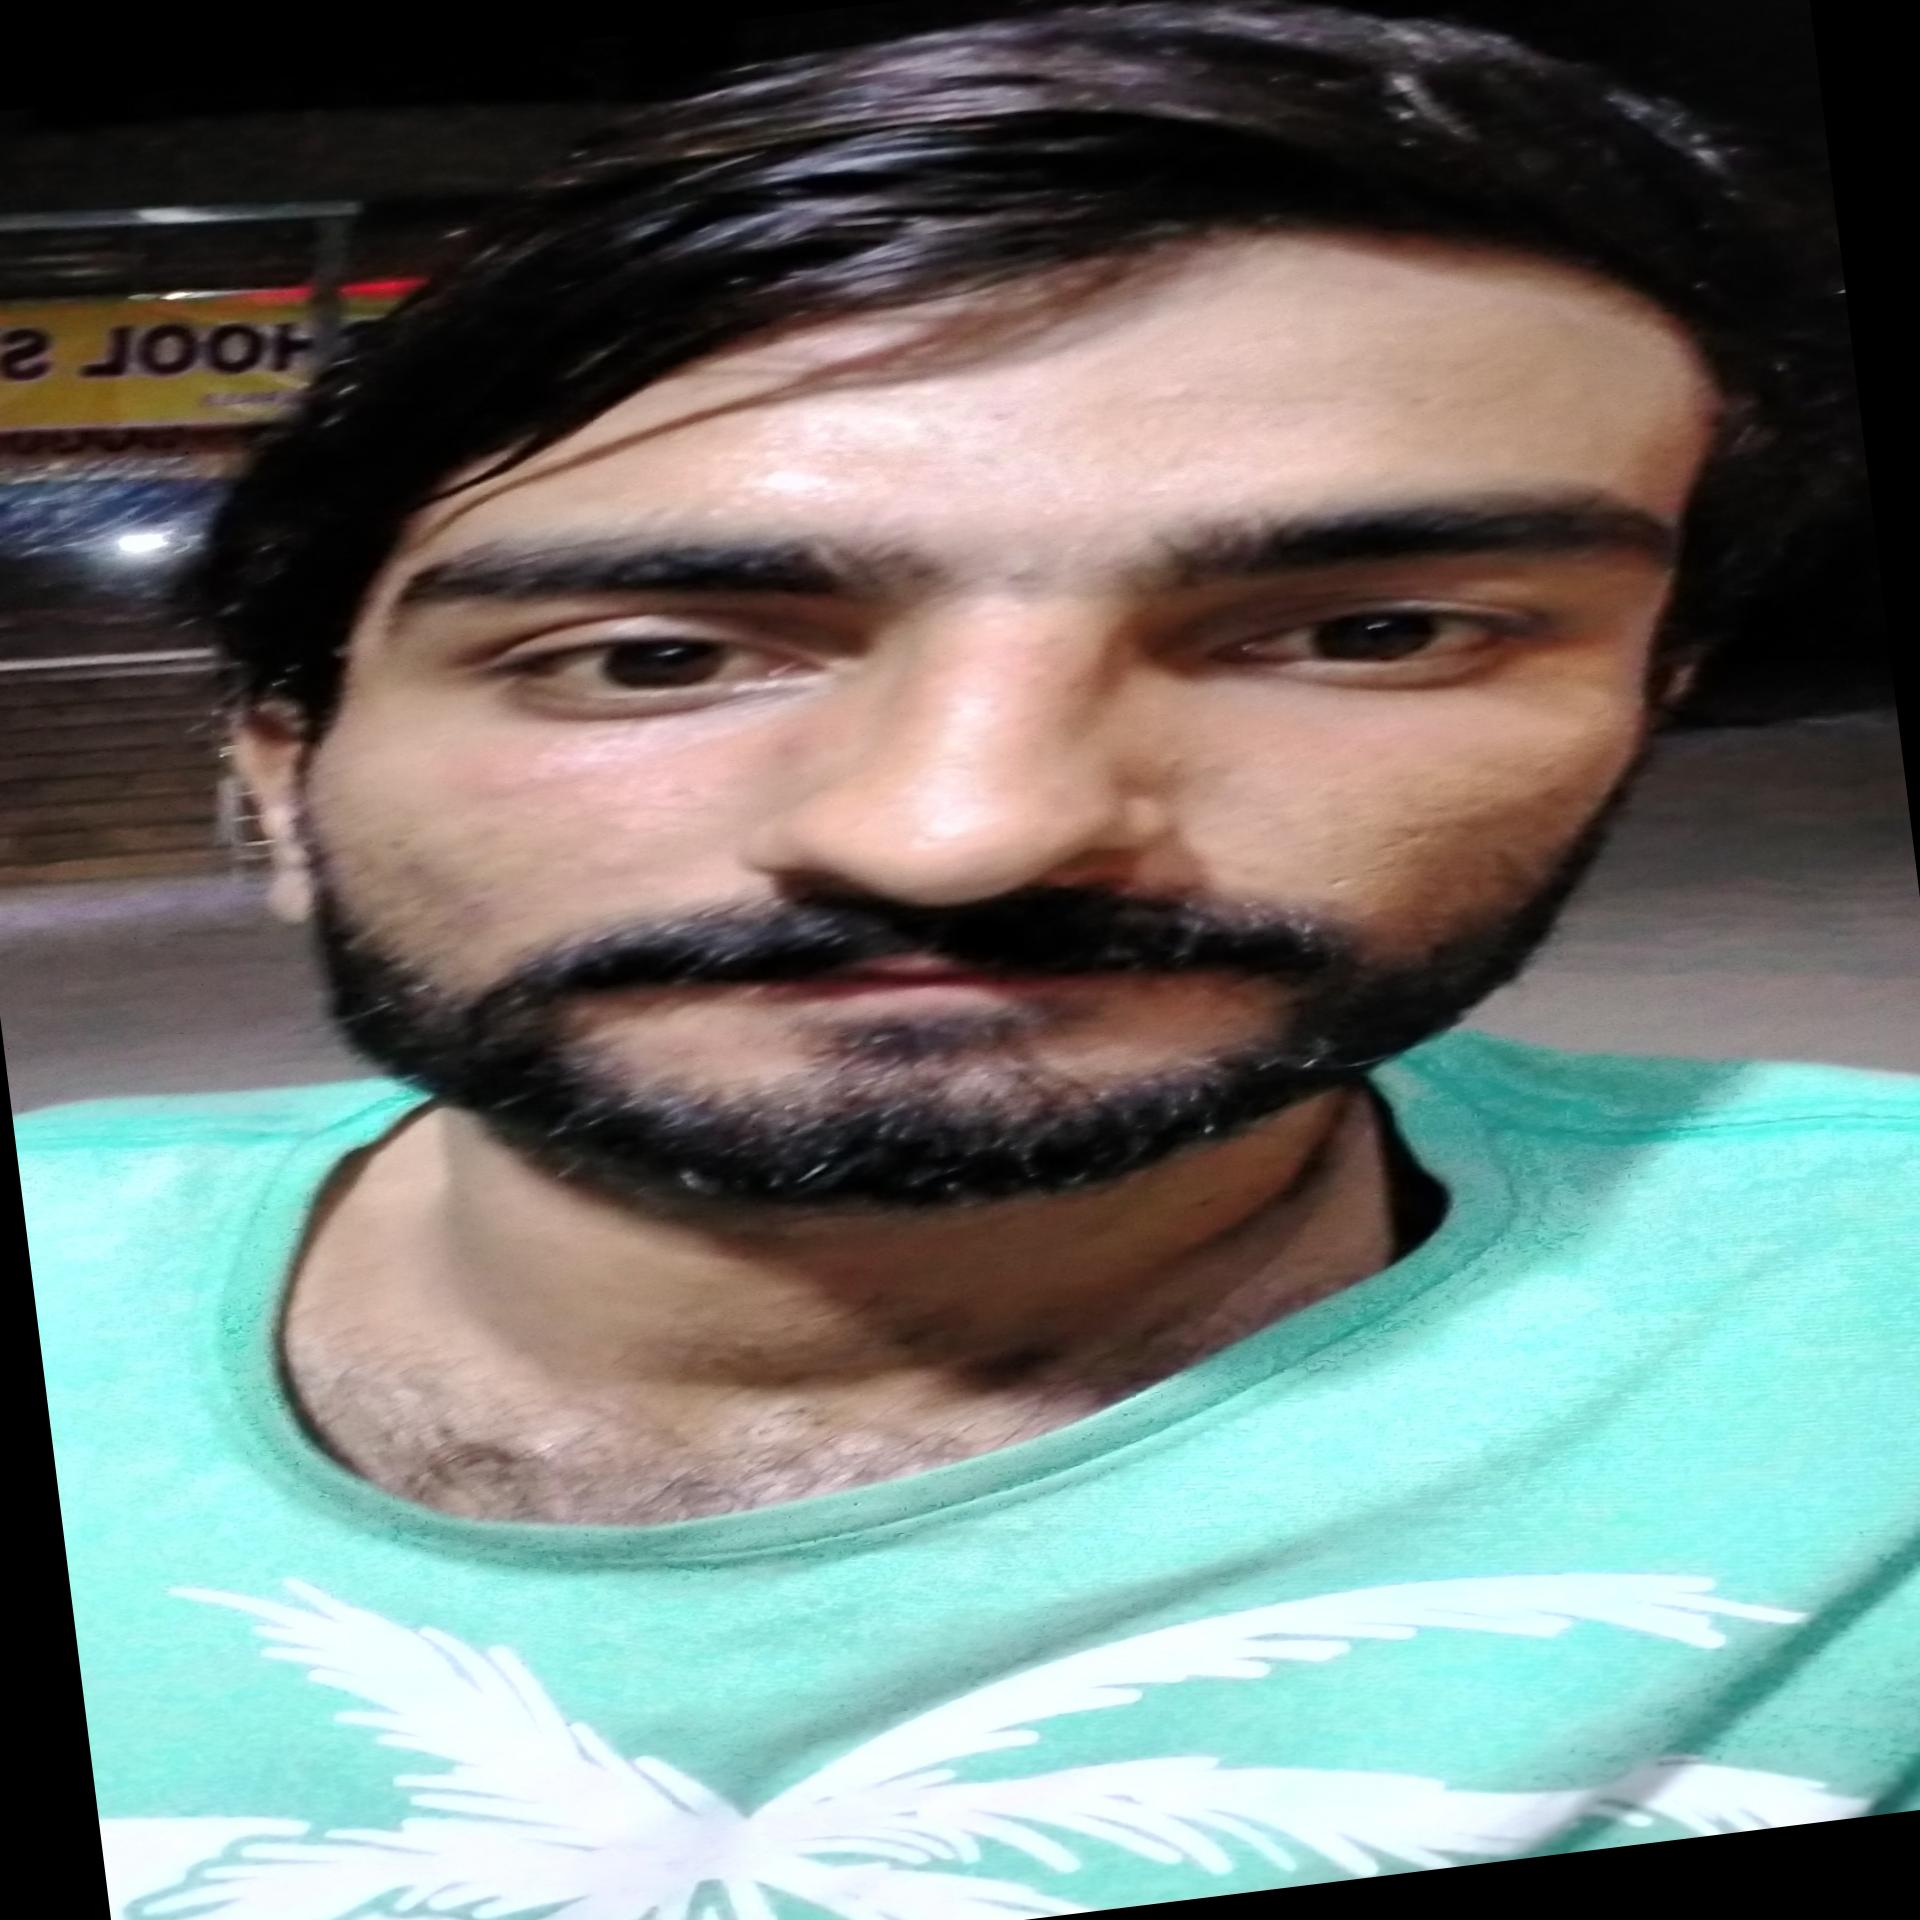Englarged Pores: (1291, 816, 1458, 888)
Wrinkles: (1090, 359, 1380, 441)
